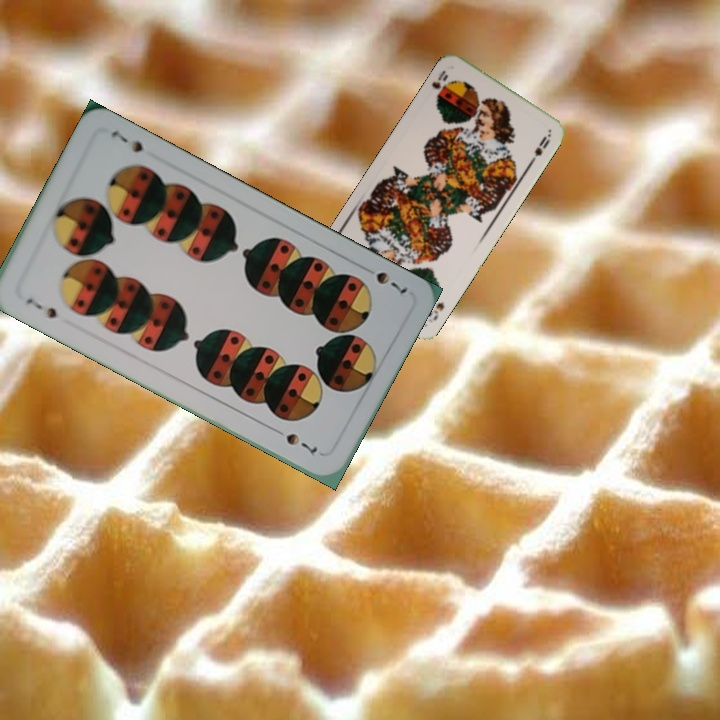S7: (357, 261, 410, 296), (22, 294, 60, 321)
SO: (428, 66, 451, 92), (424, 298, 447, 323)
